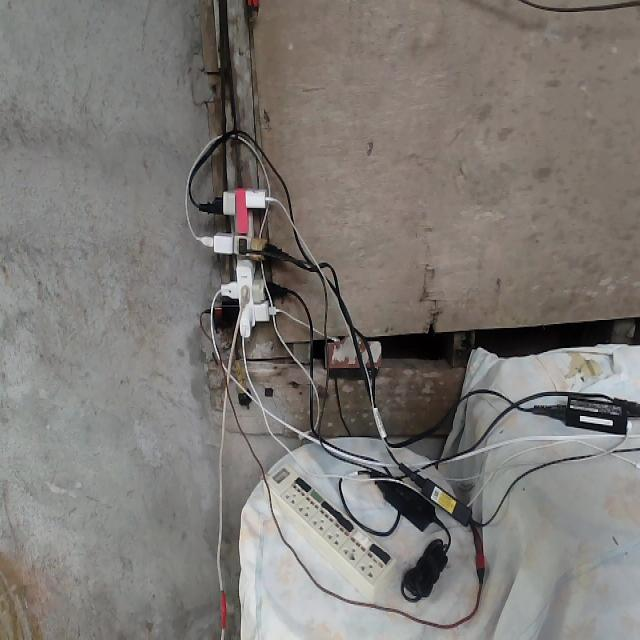-: (200, 181, 281, 340)
